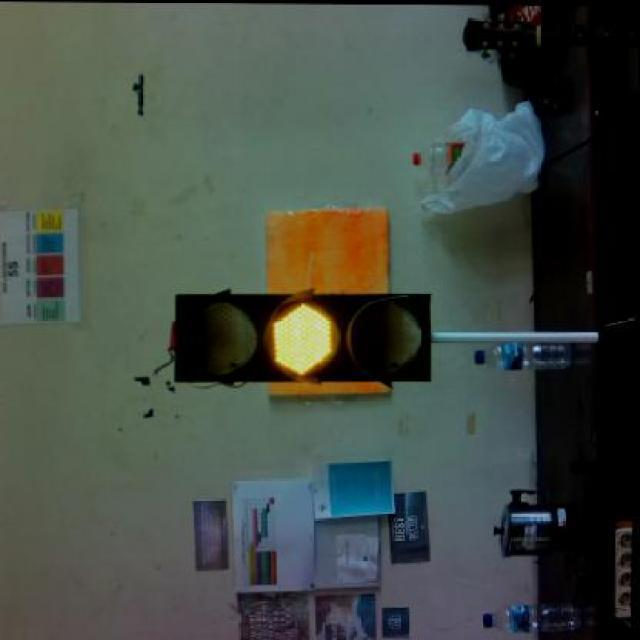yellow_light: (155, 289, 430, 397)
